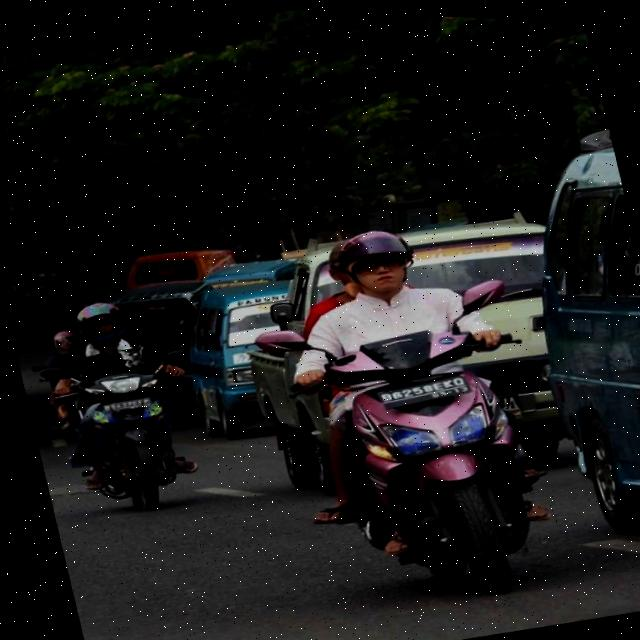car: (491, 157, 640, 585)
motorcycle: (251, 260, 578, 629), (55, 357, 200, 527)
